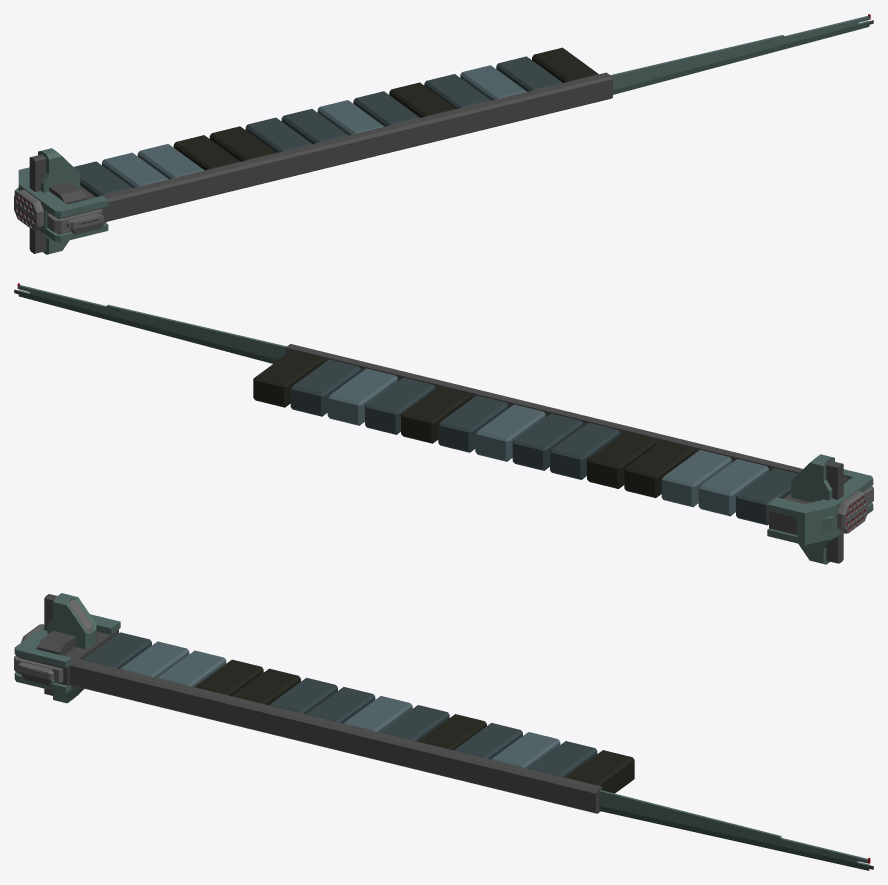
The model's file is cargoship.gltf.
3 renders of one model, top to bottom at view 1: azimuth 30°, elevation 25°; view 2: azimuth 150°, elevation 25°; view 3: azimuth 330°, elevation 25°, orthographic. The views are drawn at different scales.
Visible parts, largest first — view 1: Cube.003; view 2: Cube.003; view 3: Cube.003.
Part boxes in pixels (x1,y1,x2,y2): Cube.003: (14, 14, 873, 254); Cube.003: (14, 283, 873, 564); Cube.003: (14, 593, 873, 870).
Size of the model in its own units: 76.28 by 8.77 by 9.34.
Materials: 2 (1 with a texture image).
